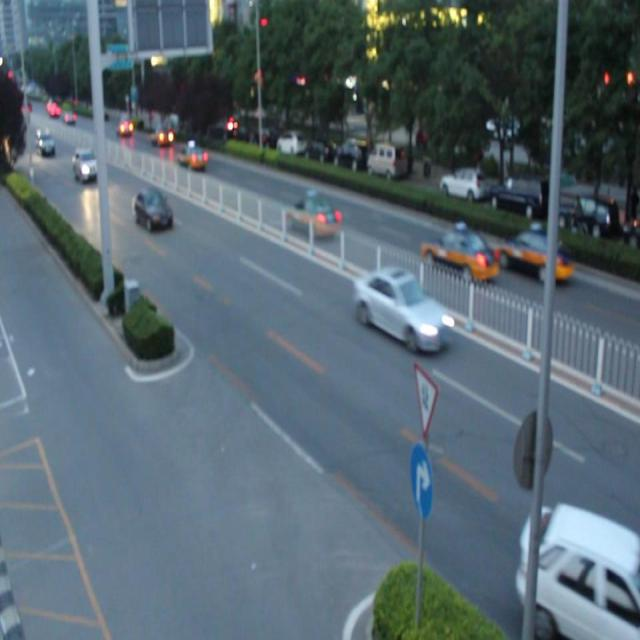car: (518, 502, 640, 640), (356, 272, 454, 354), (497, 226, 572, 285), (422, 226, 496, 284), (286, 194, 340, 238), (134, 190, 172, 231), (178, 144, 207, 170)
